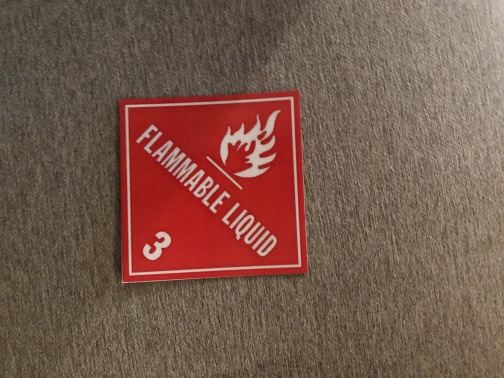FlammableLiquid: (122, 99, 306, 276)
